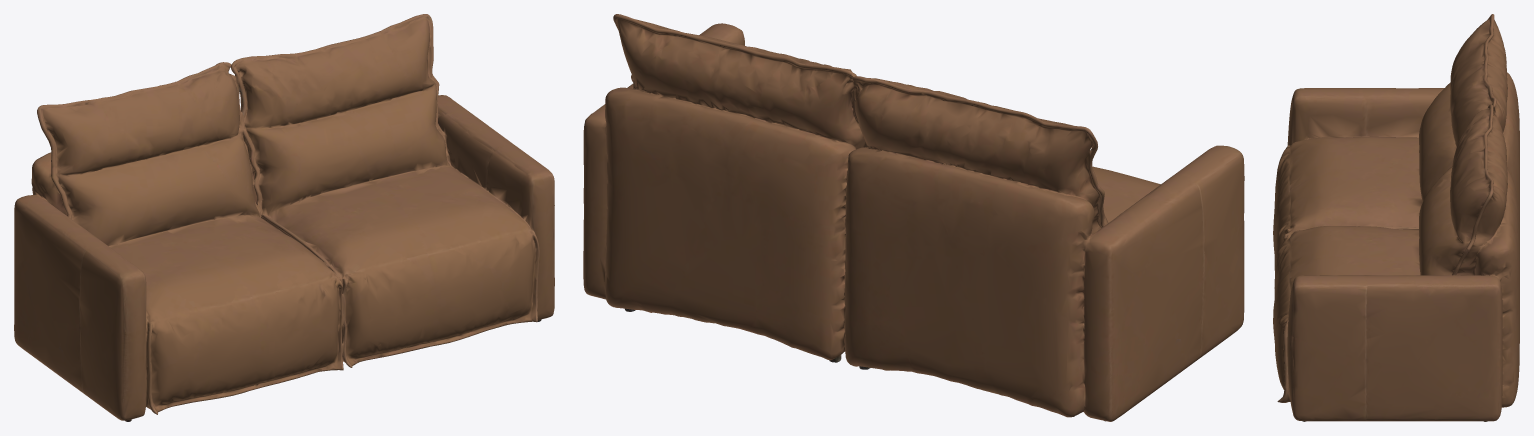
File: arhaus-rowland-two.min.glb
3 views of the same model, side by side, from view 1: azimuth 30°, elevation 25°; view 2: azimuth 150°, elevation 25°; view 3: azimuth 270°, elevation 25° (orthographic). The views are drawn at different scales.
Bounding box in the file's own units: 1.9 × 0.9838 × 0.9761.
1 material, 1 textured.
